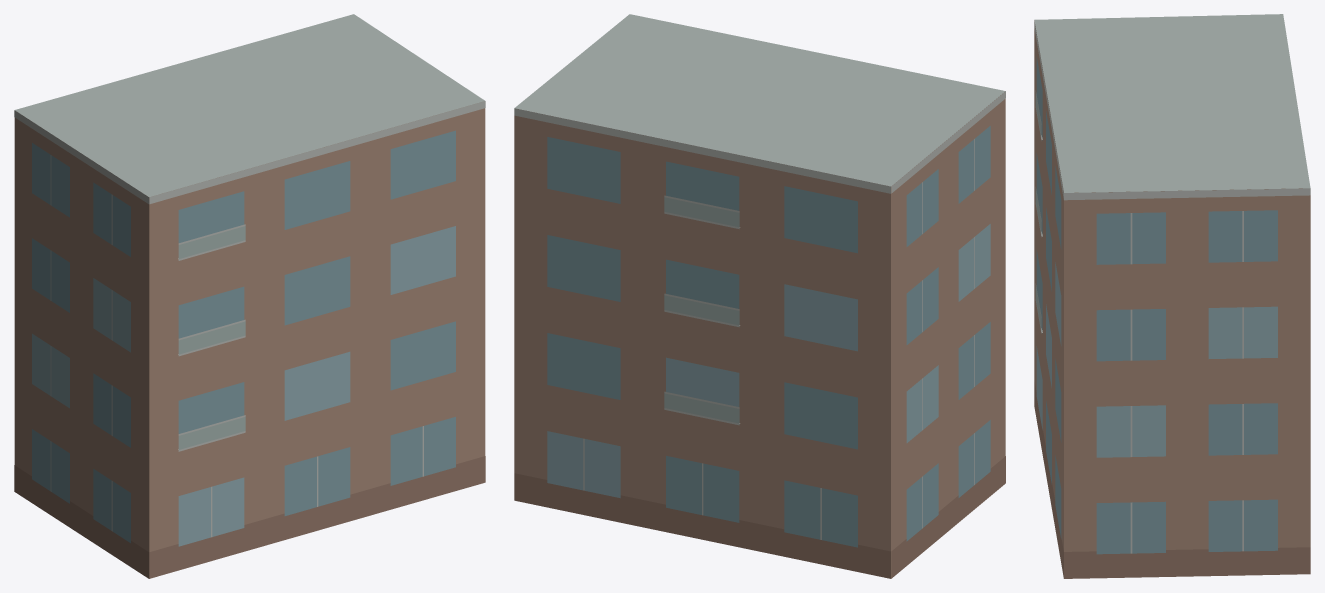
The model's file is survey-upis-32885300.glb.
3 renders of one model, left to right at view 1: azimuth 30°, elevation 25°; view 2: azimuth 150°, elevation 25°; view 3: azimuth 270°, elevation 25°, orthographic. The views are drawn at different scales.
Visible parts, largest first — view 1: survey-upis-32885300.tmp; view 2: survey-upis-32885300.tmp; view 3: survey-upis-32885300.tmp.
Boxes of the visible parts, box(x1,y1,x2,y2) form: survey-upis-32885300.tmp: box(14, 14, 485, 578); survey-upis-32885300.tmp: box(514, 14, 1005, 578); survey-upis-32885300.tmp: box(1034, 14, 1310, 578).
Size of the model in its own units: 12.94 by 13 by 8.44.
